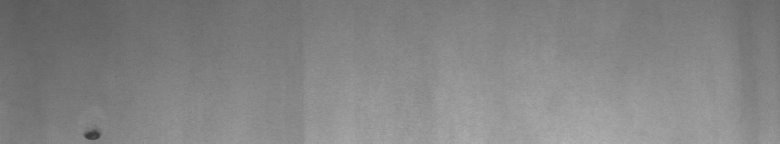fi: (80, 124, 104, 136)
